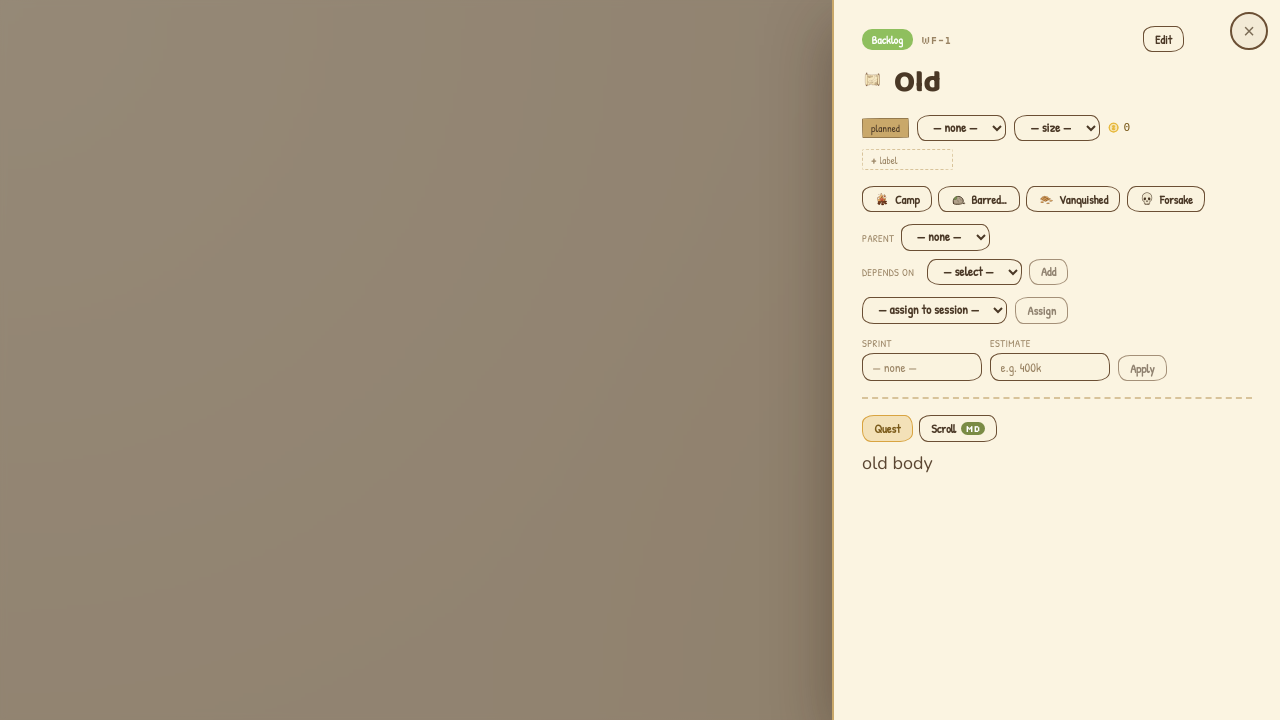
Test: <CardDetailDrawer/> › edits title and body and saves via editCard, routed through mutate() (board tiles) AND re-fetches the open card (refetchDetail), same as the label save
expect the heading "Old" is shown: met, box [894,59,941,107]
Click the button "Edit" at (1163, 39), box [1143,26,1184,52]
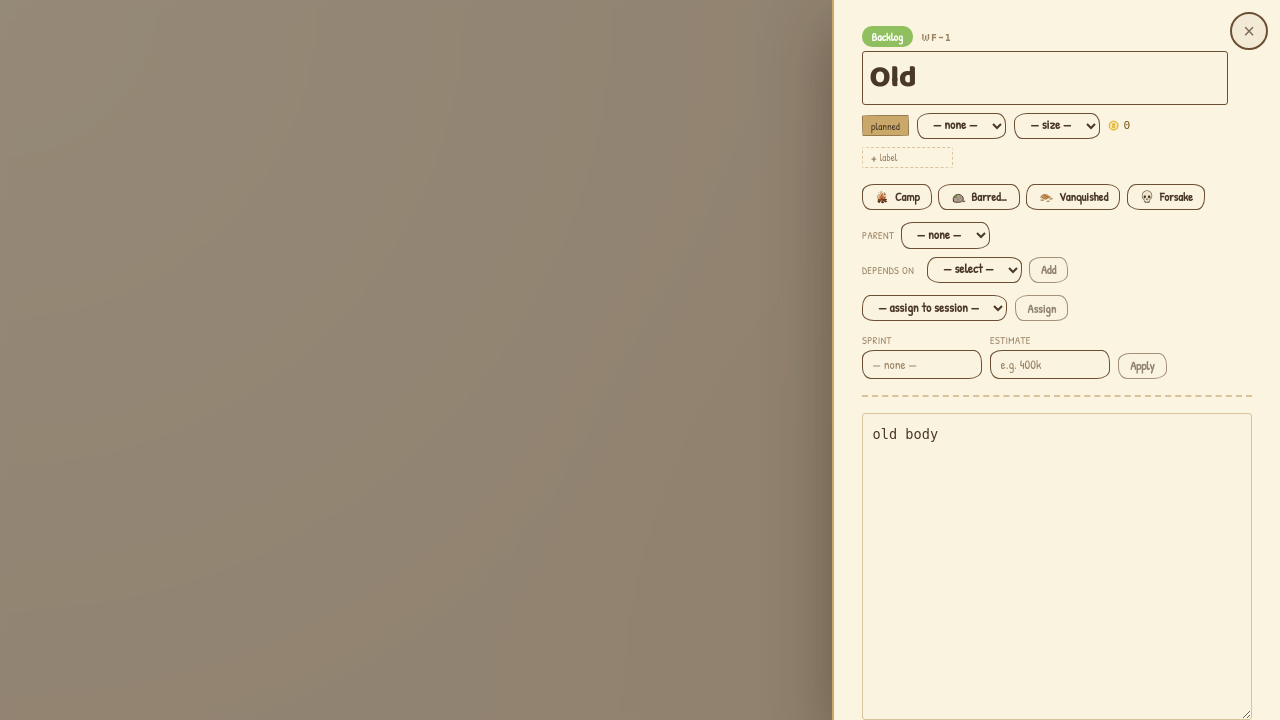
Replace the text in the field named "title" with "New title" at (1045, 78), box [862,51,1228,105]
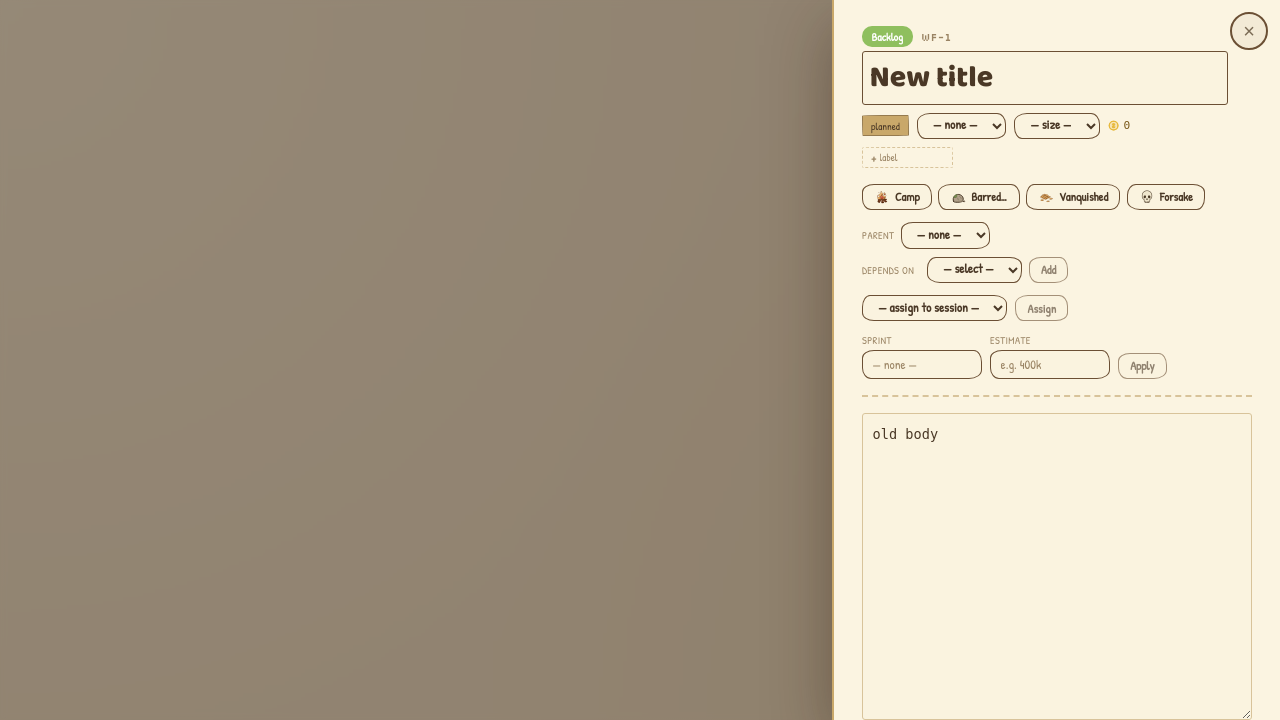
Replace the text in the text box named "body" with "new body" at (1057, 566), box [862,413,1252,719]
(page scrolled)
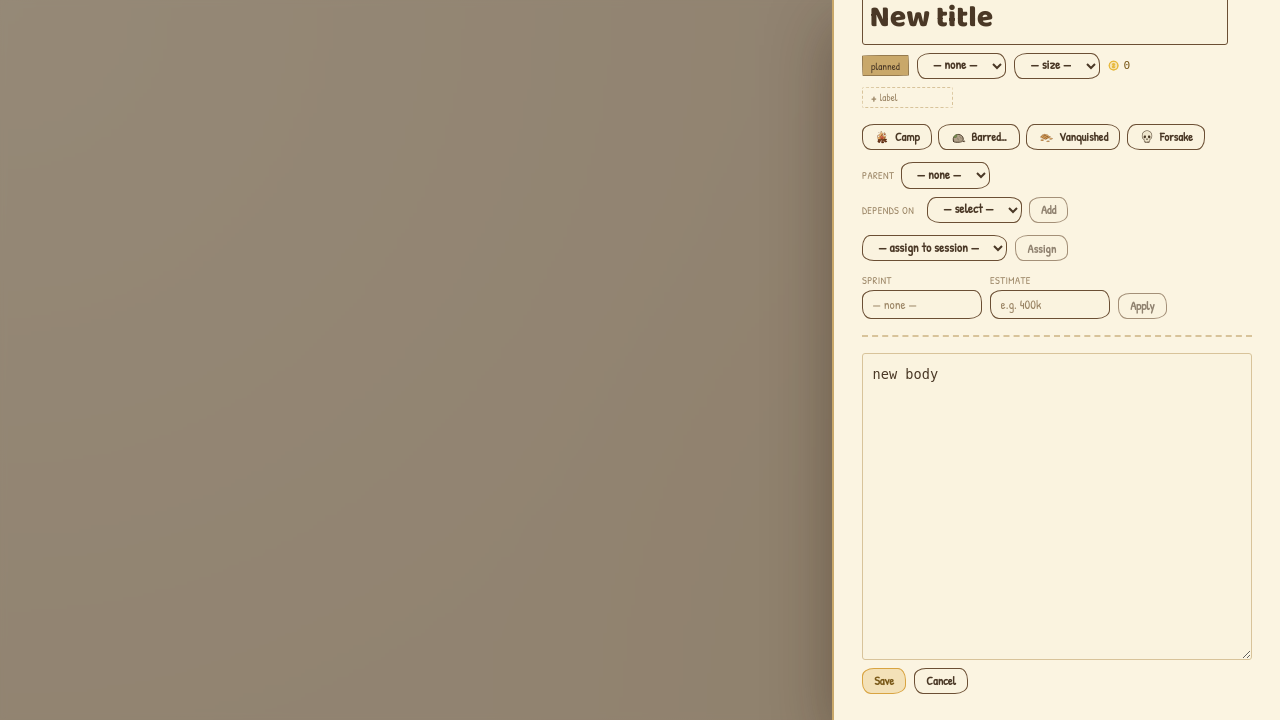
Click the button "Save" at (884, 681), box [862,668,906,694]
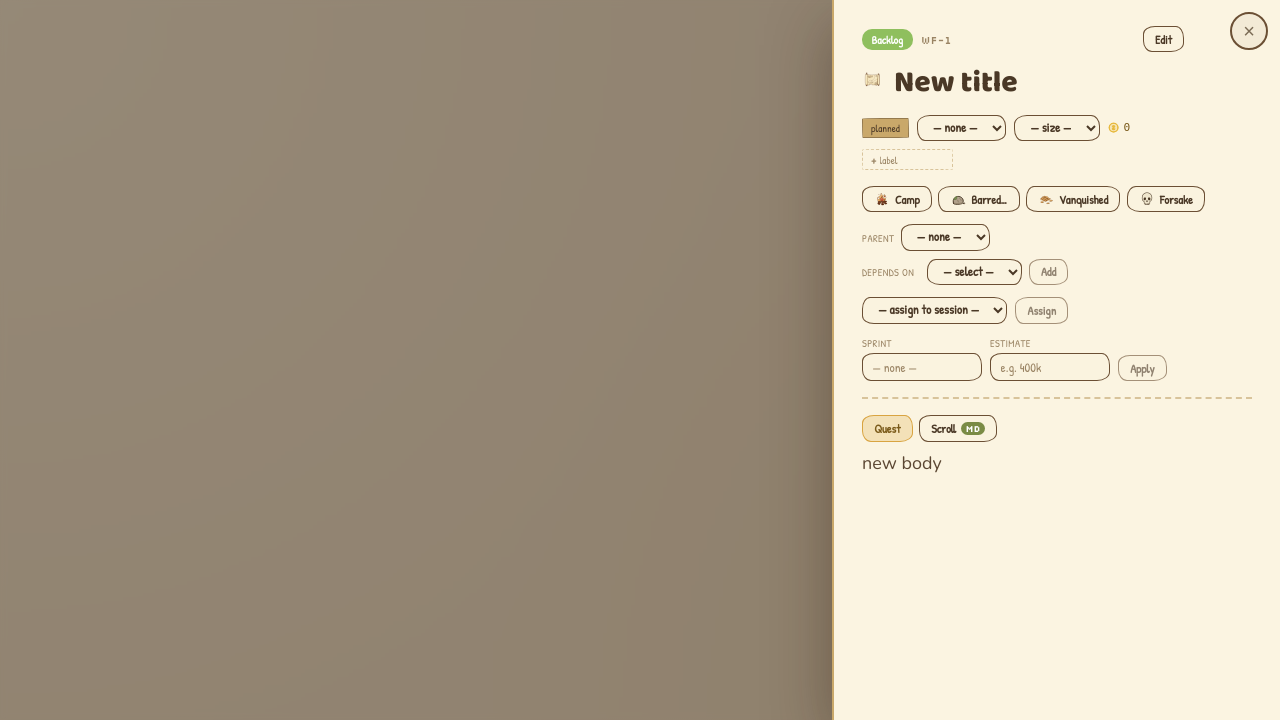
expect the heading "New title" is shown: met, box [894,59,1018,107]
